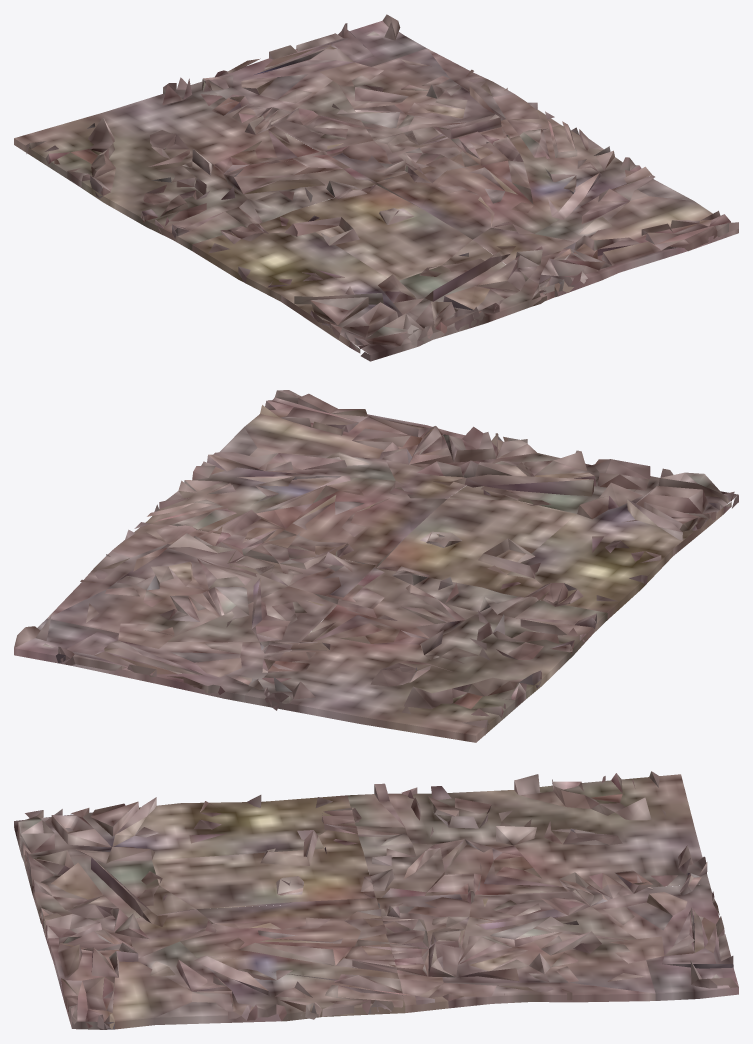
3 views of the same model, one above another, from view 1: azimuth 30°, elevation 25°; view 2: azimuth 150°, elevation 25°; view 3: azimuth 270°, elevation 25° (orthographic). The views are drawn at different scales.
Visible parts, largest first — view 1: Mesh_0; view 2: Mesh_0; view 3: Mesh_0.
Part boxes in pixels (bbox=[...]): Mesh_0: bbox=[14, 14, 738, 361]; Mesh_0: bbox=[14, 390, 738, 742]; Mesh_0: bbox=[14, 771, 738, 1029].
Bounding box in the file's own units: 1065 × 89.46 × 1318.
Materials: 1 (1 with a texture image).
